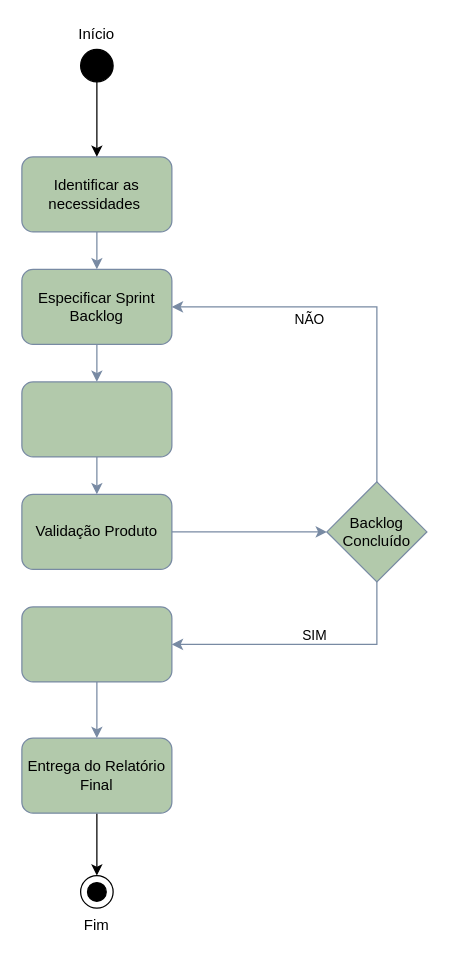
Image size: 449x959. Some labels were removed from this diagram. Here are the shapes that lost their labels. From the top down, the centre of each, then its label:
At (x=96, y=419): "Execução da Sprint".
At (x=96, y=644): "Implementação e Treinamento".
